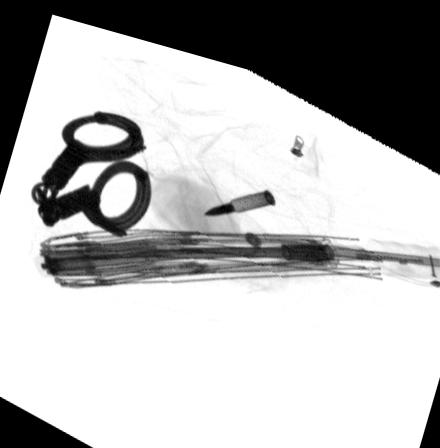Bullet: (202, 178, 275, 205)
HandCuffs: (28, 106, 151, 229)
